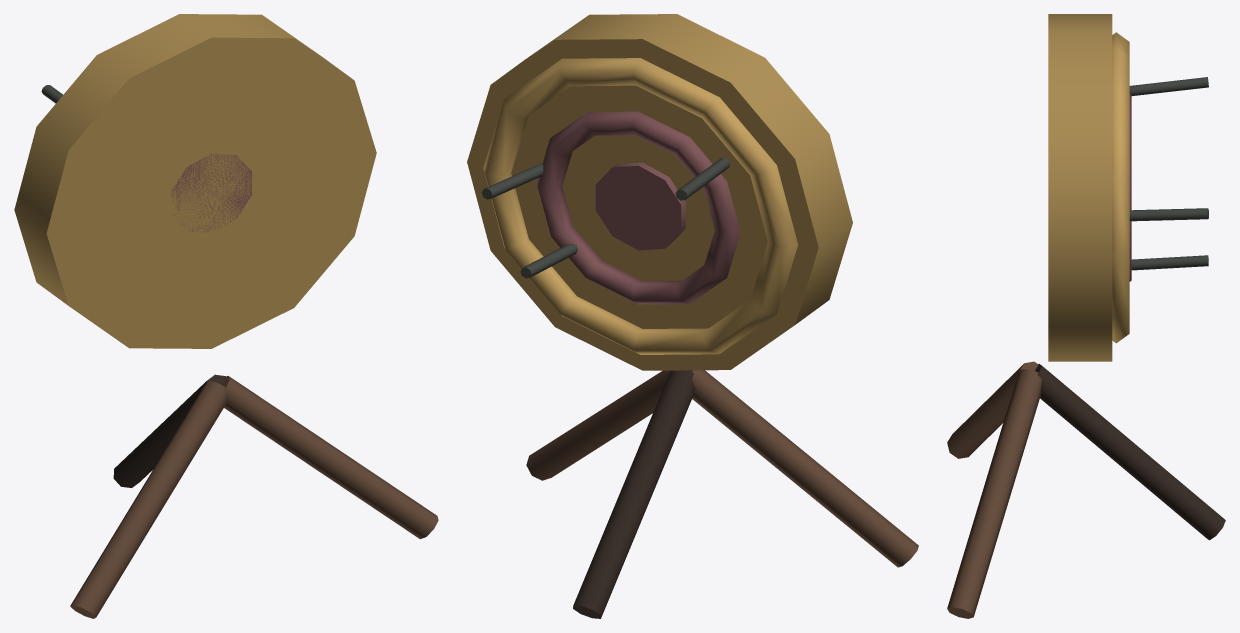
The model's file is archery_target.glb.
The picture shows the model from 3 angles, left to right: view 1: azimuth 30°, elevation 25°; view 2: azimuth 150°, elevation 25°; view 3: azimuth 270°, elevation 25°; orthographic projection. The views are drawn at different scales.
Visible parts, largest first — view 1: archery_target; view 2: archery_target; view 3: archery_target.
Boxes of the visible parts, x1,y1,x2,y2 form: archery_target: [14, 14, 438, 618]; archery_target: [467, 14, 918, 618]; archery_target: [947, 14, 1225, 618].
Size of the model in its own units: 1.2 by 1.6 by 0.8.
1 material, 1 textured.
